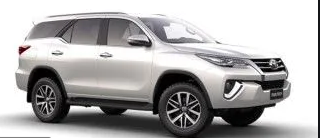car: (12, 7, 294, 138)
